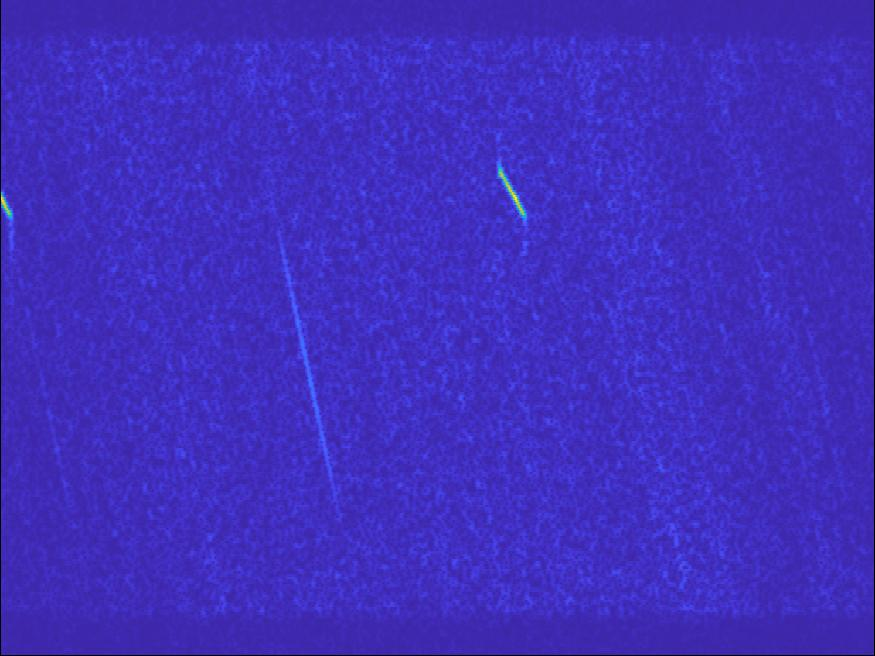Interference: (82, 106, 311, 277), (214, 283, 423, 361), (664, 1, 792, 44), (774, 307, 874, 354), (1, 76, 103, 114)
